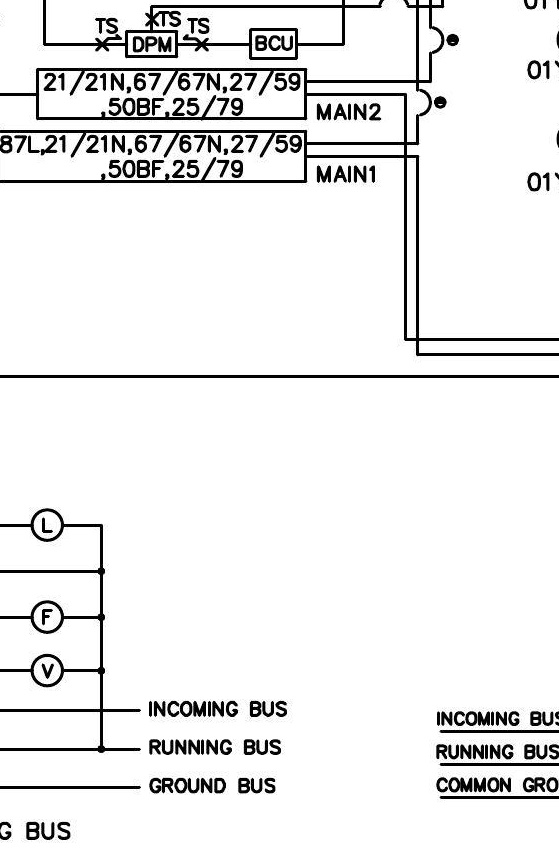BCU: (248, 27, 299, 61)
DPM: (124, 29, 178, 59)
